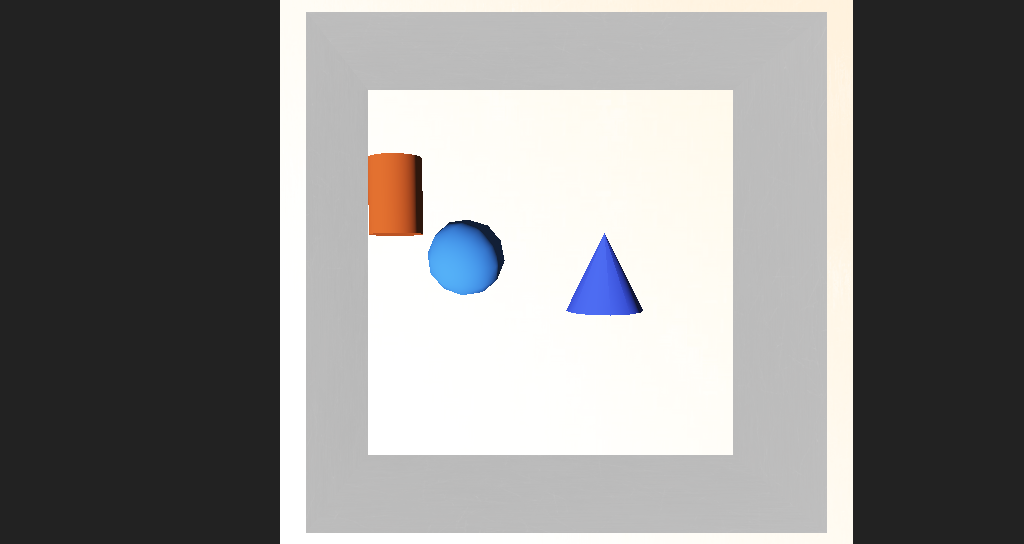cone: (350, 200, 404, 248)
cylinder: (522, 243, 583, 291)
sphere: (408, 241, 468, 284)
